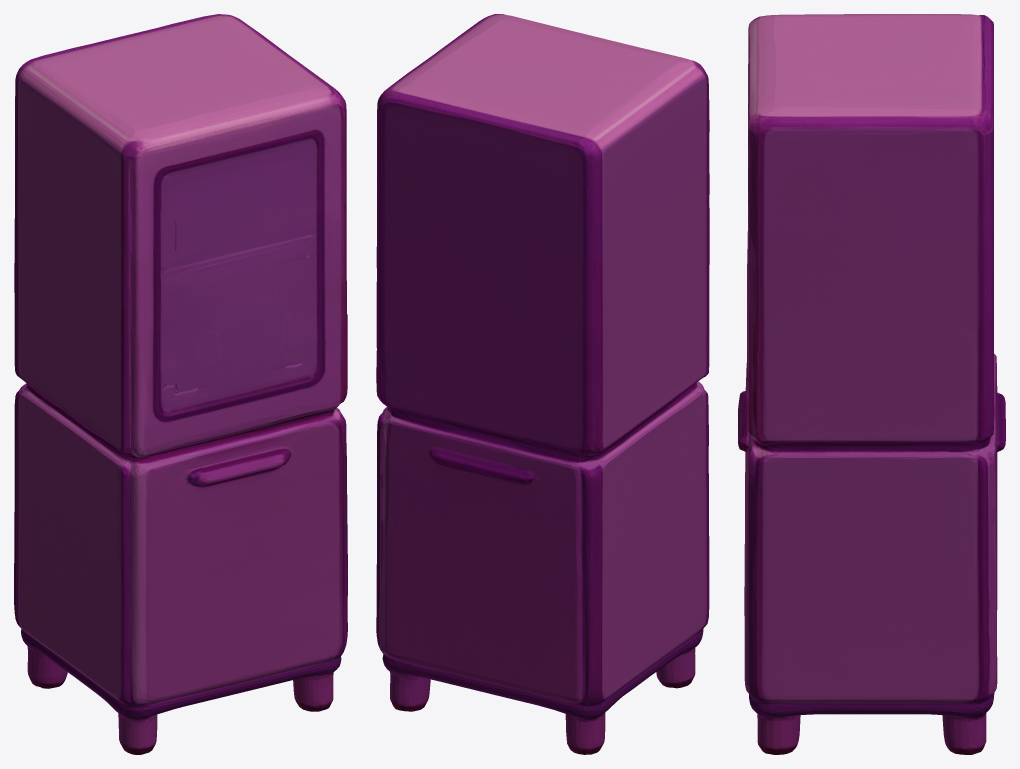
3 renders of one model, left to right at view 1: azimuth 30°, elevation 25°; view 2: azimuth 150°, elevation 25°; view 3: azimuth 270°, elevation 25°, orthographic. The views are drawn at different scales.
Parts seen in each view (by area): view 1: world; view 2: world; view 3: world.
Part boxes in pixels (left/top/right/bottom): world: left=14, top=14, right=347, bottom=754; world: left=376, top=14, right=709, bottom=754; world: left=738, top=14, right=1005, bottom=754.
Bounding box in the file's own units: 37.85 × 100 × 37.81.
Materials: 1 (1 with a texture image).
